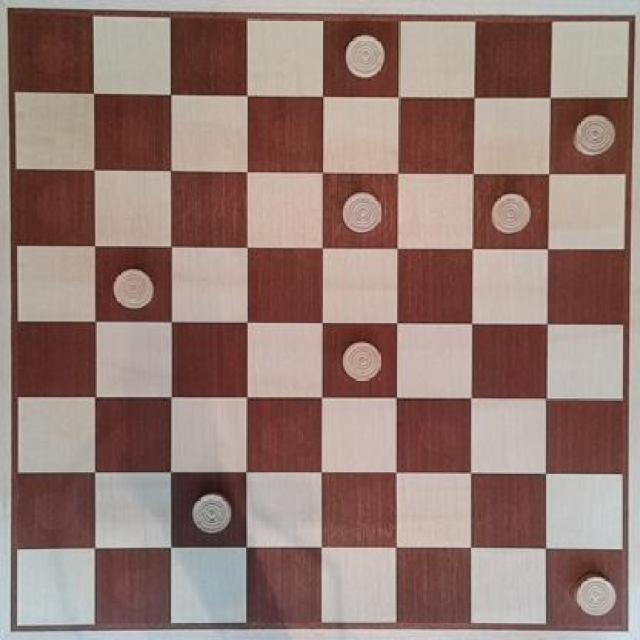BOARD: (11, 7, 630, 629)
white: (563, 567, 625, 622), (336, 26, 392, 84), (100, 260, 155, 310), (188, 481, 235, 538), (485, 187, 538, 237), (568, 109, 616, 159), (336, 187, 384, 237), (338, 343, 384, 385)
